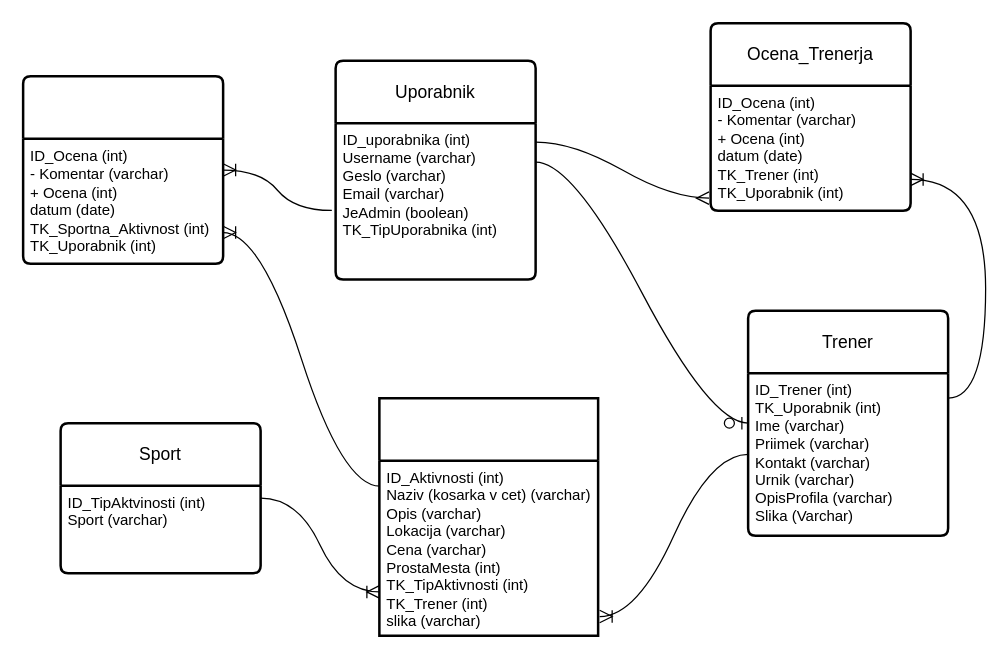
The diagram is 1008 pixels wide and 658 high, and some of its shapes have lost their labels. The shapes that lost their labels are listed below. From the top down, each one's box as (x1, y1, x2, y2) in pixels, then its label:
(21, 74, 224, 264): Ocena_Sporta
(378, 396, 599, 636): Sportna_Aktivnost
